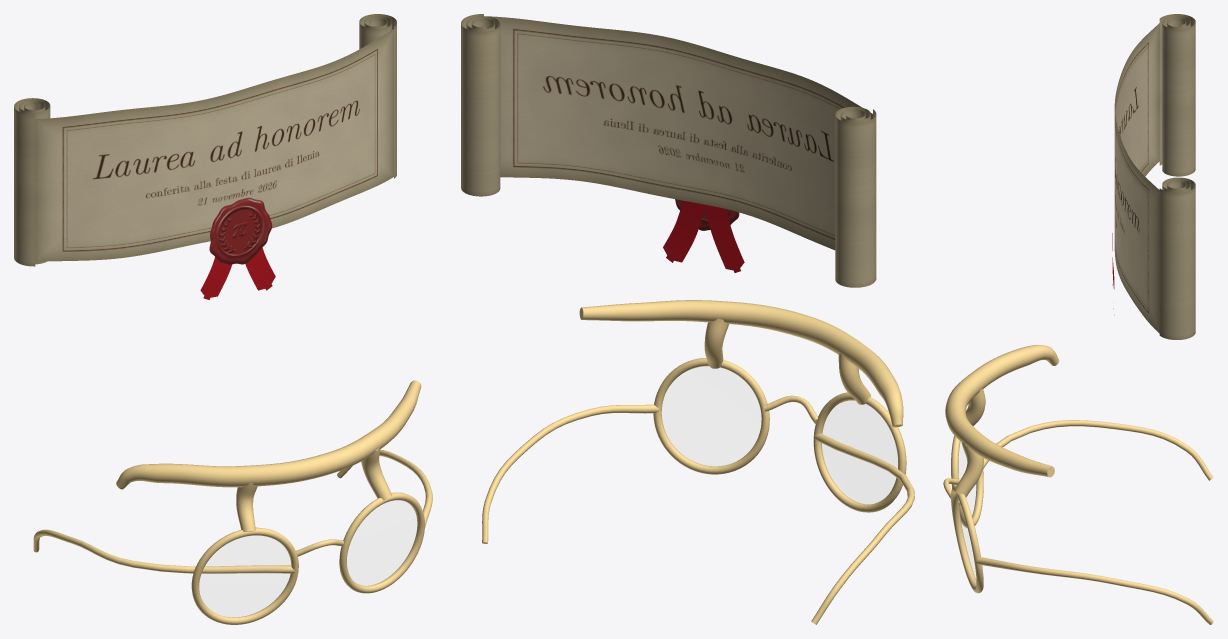
The model's file is occhiali_pergamena.glb.
The picture shows the model from 3 angles, left to right: view 1: azimuth 30°, elevation 25°; view 2: azimuth 150°, elevation 25°; view 3: azimuth 270°, elevation 25°; orthographic projection. The views are drawn at different scales.
Visible parts, largest first — view 1: foglio, pi_barra, rotolo_fine, sigillo, cerchio, cerchio.001, stanghetta, rotolo_fine.001, pi_gamba.001, pi_gamba, coda.001, stanghetta.001 (+1 smaller); view 2: foglio, pi_barra, rotolo_fine, rotolo_fine.001, cerchio.001, cerchio, stanghetta, stanghetta.001, coda.001, coda, pi_gamba.001, pi_gamba; view 3: foglio, rotolo_fine, rotolo_fine.001, pi_barra, stanghetta.001, stanghetta, cerchio.001, cerchio, pi_gamba.001, pi_gamba.
Part boxes in pixels (bbox=[...]): foglio: bbox=[35, 29, 393, 261]; pi_barra: bbox=[116, 380, 421, 489]; rotolo_fine: bbox=[14, 98, 50, 266]; sigillo: bbox=[209, 197, 272, 264]; cerchio: bbox=[191, 527, 298, 624]; cerchio.001: bbox=[339, 492, 424, 593]; stanghetta: bbox=[33, 529, 294, 573]; rotolo_fine.001: bbox=[359, 14, 396, 178]; pi_gamba.001: bbox=[361, 447, 392, 500]; pi_gamba: bbox=[236, 483, 257, 531]; coda.001: bbox=[245, 247, 275, 290]; stanghetta.001: bbox=[337, 449, 432, 528]; foglio: bbox=[487, 16, 872, 250]; pi_barra: bbox=[579, 300, 903, 427]; rotolo_fine: bbox=[835, 106, 876, 287]; rotolo_fine.001: bbox=[461, 14, 500, 196]; cerchio.001: bbox=[653, 358, 769, 474]; cerchio: bbox=[813, 392, 906, 512]; stanghetta: bbox=[811, 433, 914, 624]; stanghetta.001: bbox=[482, 404, 659, 543]; coda.001: bbox=[663, 200, 705, 262]; coda: bbox=[704, 205, 744, 272]; pi_gamba.001: bbox=[704, 318, 729, 368]; pi_gamba: bbox=[838, 353, 870, 404]; foglio: bbox=[1114, 23, 1159, 333]; rotolo_fine: bbox=[1159, 14, 1195, 176]; rotolo_fine.001: bbox=[1159, 177, 1195, 339]; pi_barra: bbox=[945, 345, 1059, 477]; stanghetta.001: bbox=[975, 557, 1213, 624]; stanghetta: bbox=[982, 420, 1213, 480]; cerchio.001: bbox=[951, 486, 983, 593]; cerchio: bbox=[951, 435, 983, 527]; pi_gamba.001: bbox=[954, 441, 983, 497]; pi_gamba: bbox=[966, 389, 985, 425].
Bounding box in the file's own units: 17.94 × 21.19 × 11.46.
5 materials, 2 textured.
